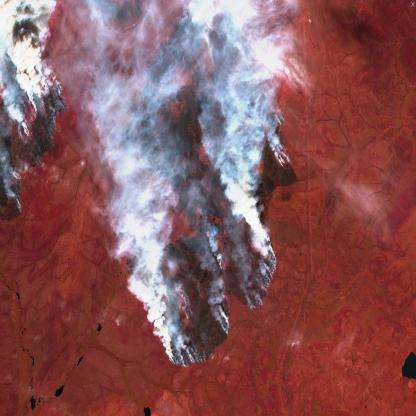fire: (128, 0, 300, 376), (0, 0, 67, 215)
